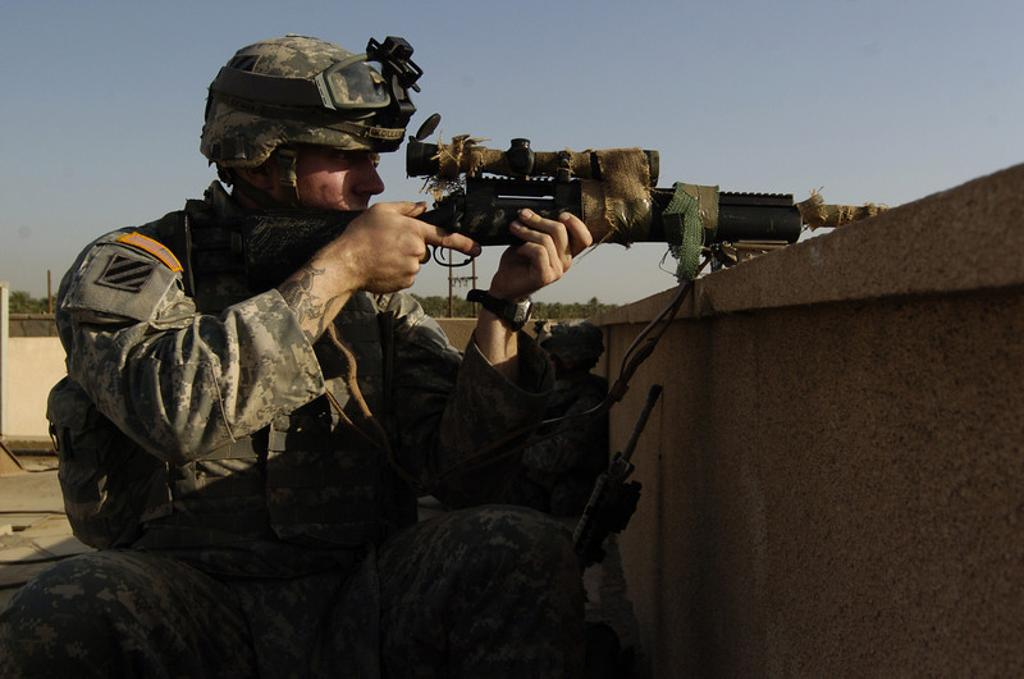face: (303, 117, 387, 249)
